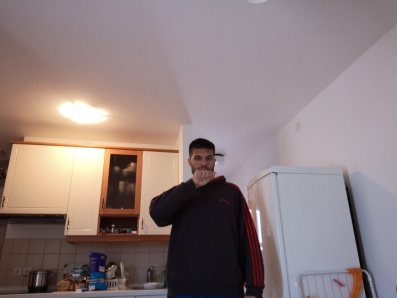A: (192, 168, 217, 186)
